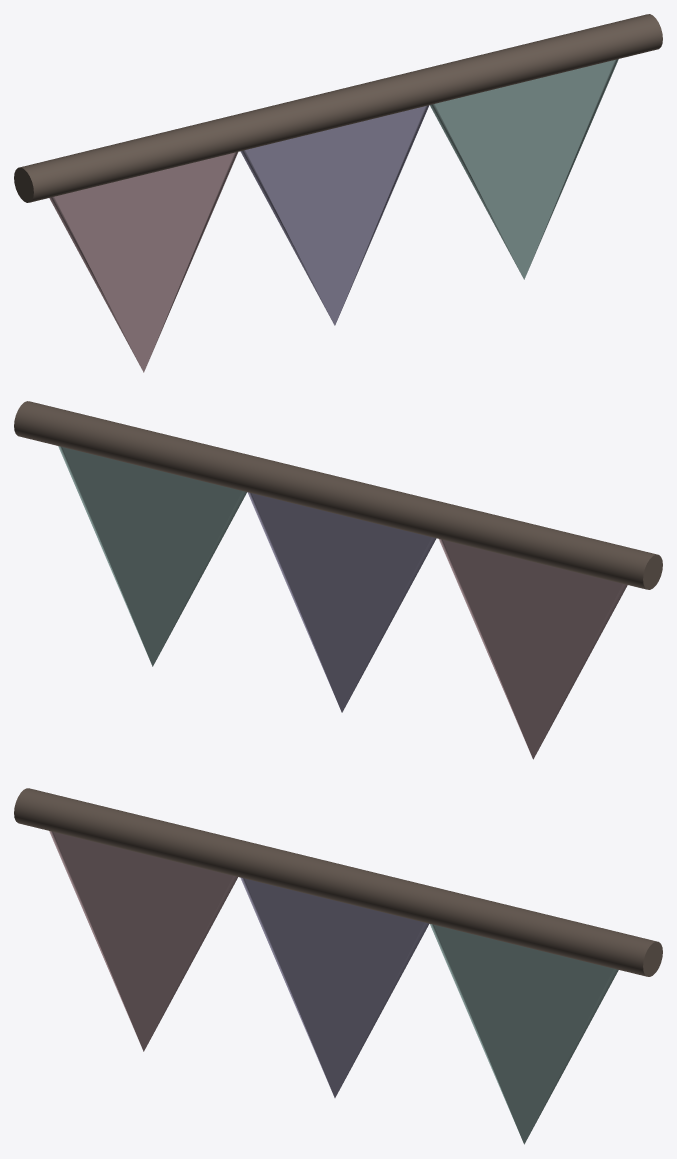
The model's file is banner.fbx.
The picture shows the model from 3 angles, top to bottom: view 1: azimuth 30°, elevation 25°; view 2: azimuth 150°, elevation 25°; view 3: azimuth 330°, elevation 25°; orthographic projection.
Parts seen in each view (by area): view 1: banner, pCone3, pCone1, pCone2; view 2: banner, pCone1, pCone2, pCone3; view 3: banner, pCone3, pCone2, pCone1.
Part boxes in pixels (x1,y1,x2,y2): banner: (14, 14, 662, 202); pCone3: (49, 152, 238, 372); pCone1: (430, 59, 618, 279); pCone2: (240, 105, 429, 325); banner: (14, 401, 662, 589); pCone1: (58, 446, 246, 666); pCone2: (247, 492, 436, 712); pCone3: (439, 539, 627, 759); banner: (14, 788, 662, 976); pCone3: (49, 831, 237, 1051); pCone2: (240, 877, 429, 1097); pCone1: (430, 924, 618, 1144).
Size of the model in its own units: 162 by 57.41 by 8.9.
